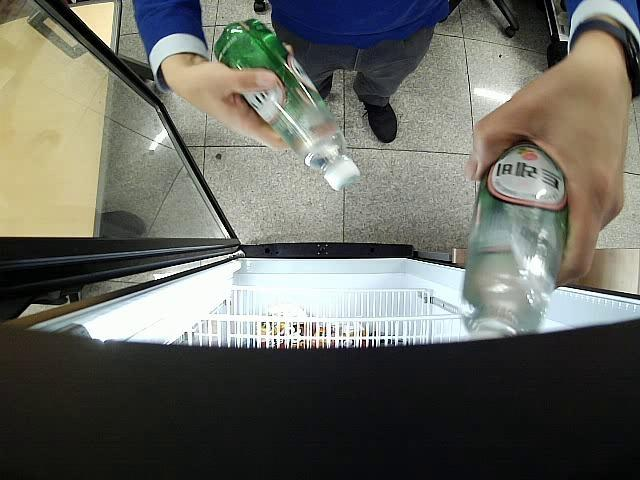18_trevi: (214, 18, 360, 190), (463, 141, 569, 342)
